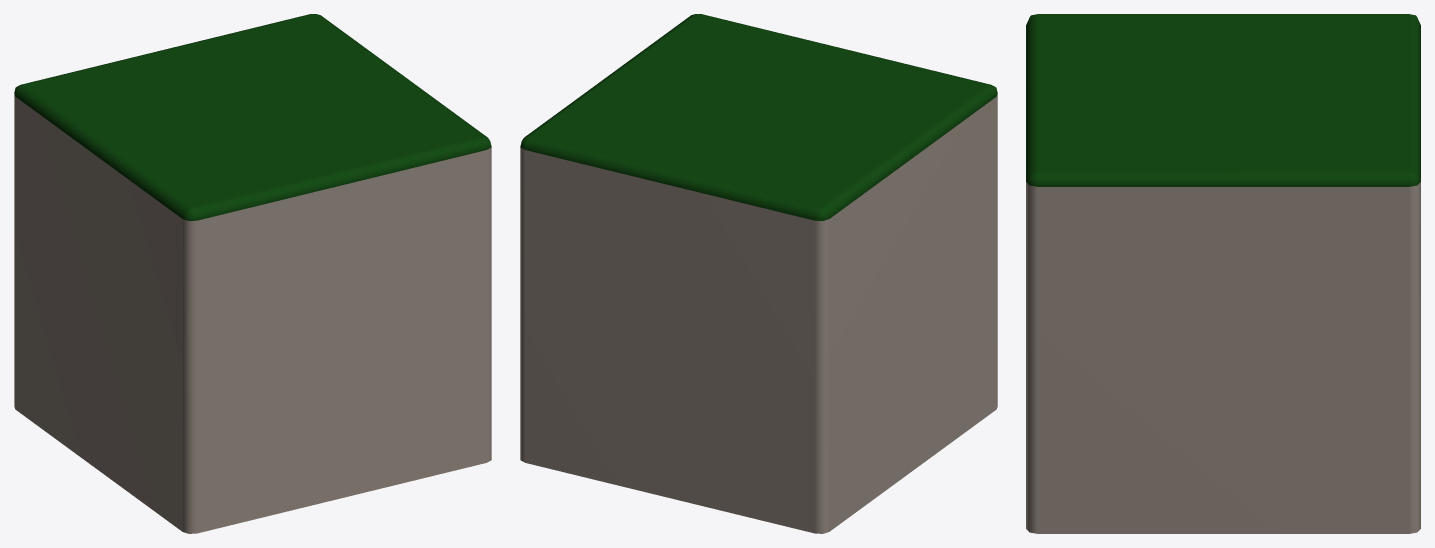
File: Cliff_04_Tiny.fbx
3 renders of one model, left to right at view 1: azimuth 30°, elevation 25°; view 2: azimuth 150°, elevation 25°; view 3: azimuth 270°, elevation 25°, orthographic. The views are drawn at different scales.
Visible parts, largest first — view 1: Cliff_04_Tiny; view 2: Cliff_04_Tiny; view 3: Cliff_04_Tiny.
Part boxes in pixels (bbox=[...]): Cliff_04_Tiny: bbox=[14, 14, 491, 533]; Cliff_04_Tiny: bbox=[520, 14, 997, 533]; Cliff_04_Tiny: bbox=[1026, 14, 1420, 533].
Size of the model in its own units: 100 by 100 by 100.
